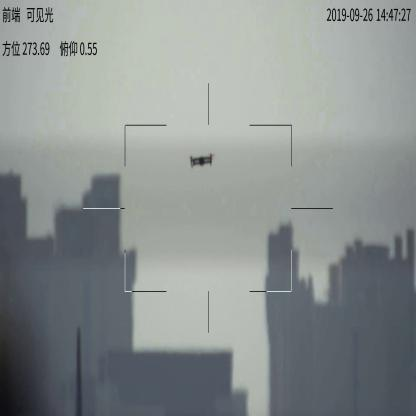uav: (182, 151, 218, 170)
